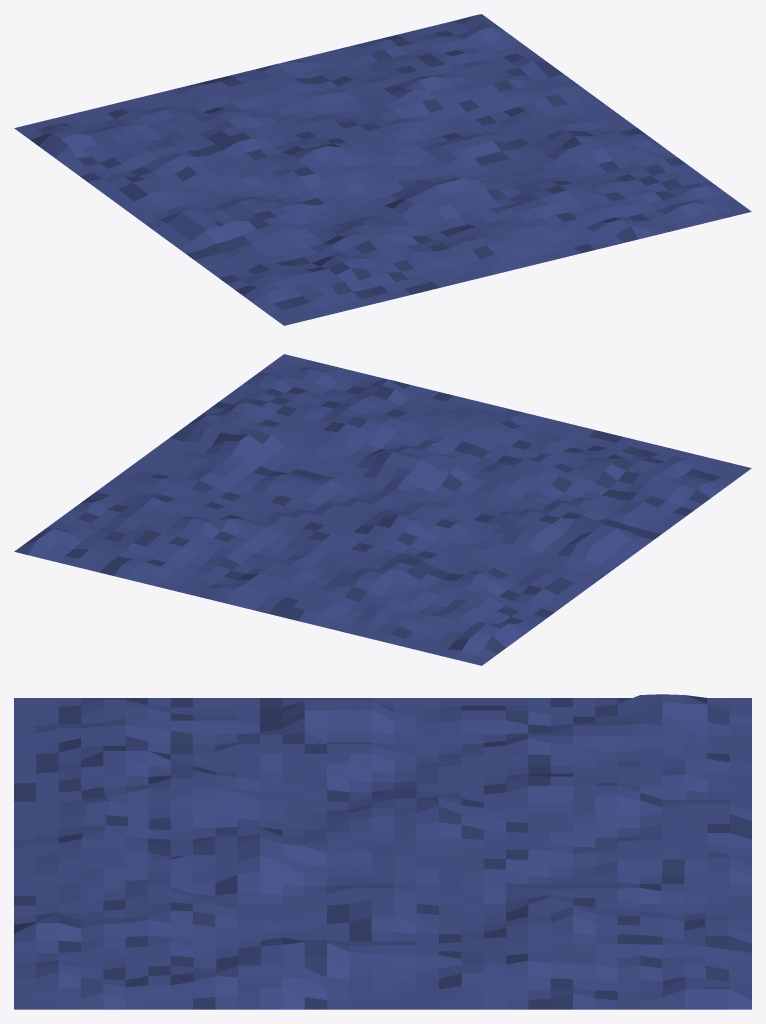
Rendered from Terrain_3_Blue.fbx.
3 renders of one model, top to bottom at view 1: azimuth 30°, elevation 25°; view 2: azimuth 150°, elevation 25°; view 3: azimuth 270°, elevation 25°, orthographic. The views are drawn at different scales.
Visible parts, largest first — view 1: Terrain_3_Blue; view 2: Terrain_3_Blue; view 3: Terrain_3_Blue.
Boxes of the visible parts, x1,y1,x2,y2 form: Terrain_3_Blue: (14, 14, 751, 325); Terrain_3_Blue: (14, 354, 751, 665); Terrain_3_Blue: (14, 694, 751, 1009).
Bounding box in the file's own units: 10000 × 362 × 10000.
